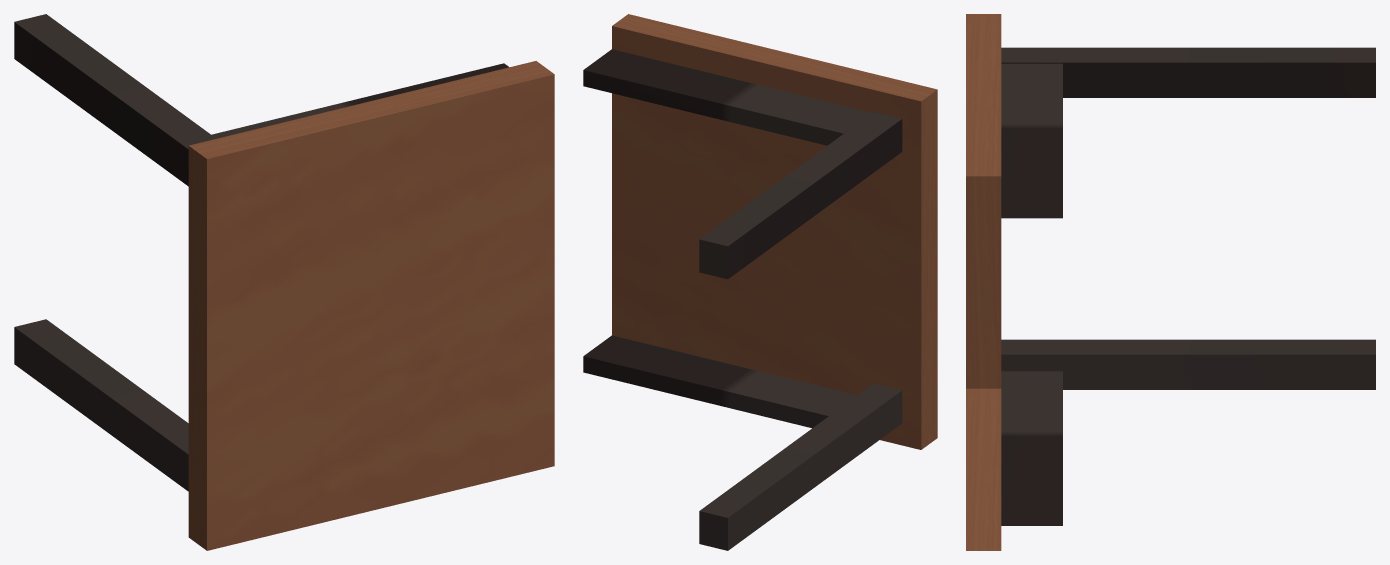
The model's file is pz_table_tables_high_01_large_oak_0_0.obj.
3 views of the same model, side by side, from view 1: azimuth 30°, elevation 25°; view 2: azimuth 150°, elevation 25°; view 3: azimuth 270°, elevation 25° (orthographic). The views are drawn at different scales.
Size of the model in its own units: 0.8125 by 0.875 by 0.8675.
1 material, 1 textured.
